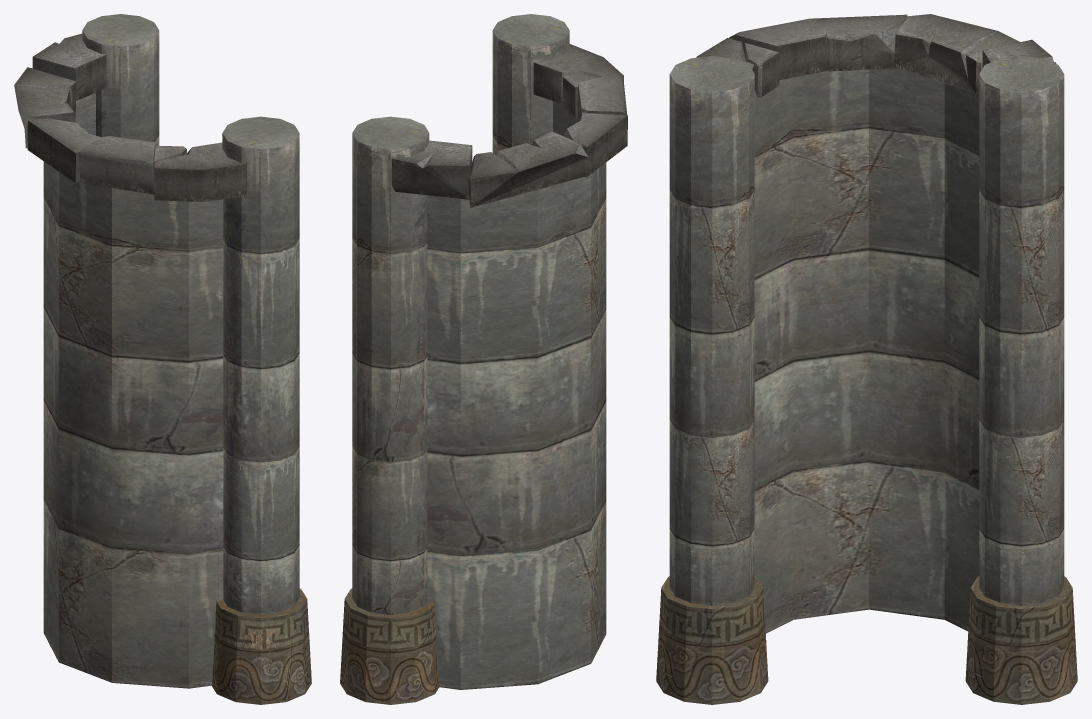
The model's file is bg_anh_gvalley_gs06_sm_old.FBX.
3 views of the same model, side by side, from view 1: azimuth 30°, elevation 25°; view 2: azimuth 150°, elevation 25°; view 3: azimuth 270°, elevation 25° (orthographic). The views are drawn at different scales.
Parts seen in each view (by area): view 1: bg_anh_gvalley_gs06_sm_old; view 2: bg_anh_gvalley_gs06_sm_old; view 3: bg_anh_gvalley_gs06_sm_old.
Part boxes in pixels (x1=…): bg_anh_gvalley_gs06_sm_old: x1=14, y1=14, x2=311, y2=704; bg_anh_gvalley_gs06_sm_old: x1=340, y1=14, x2=627, y2=704; bg_anh_gvalley_gs06_sm_old: x1=656, y1=14, x2=1077, y2=704.
Bounding box in the file's own units: 159 × 437 × 275.
